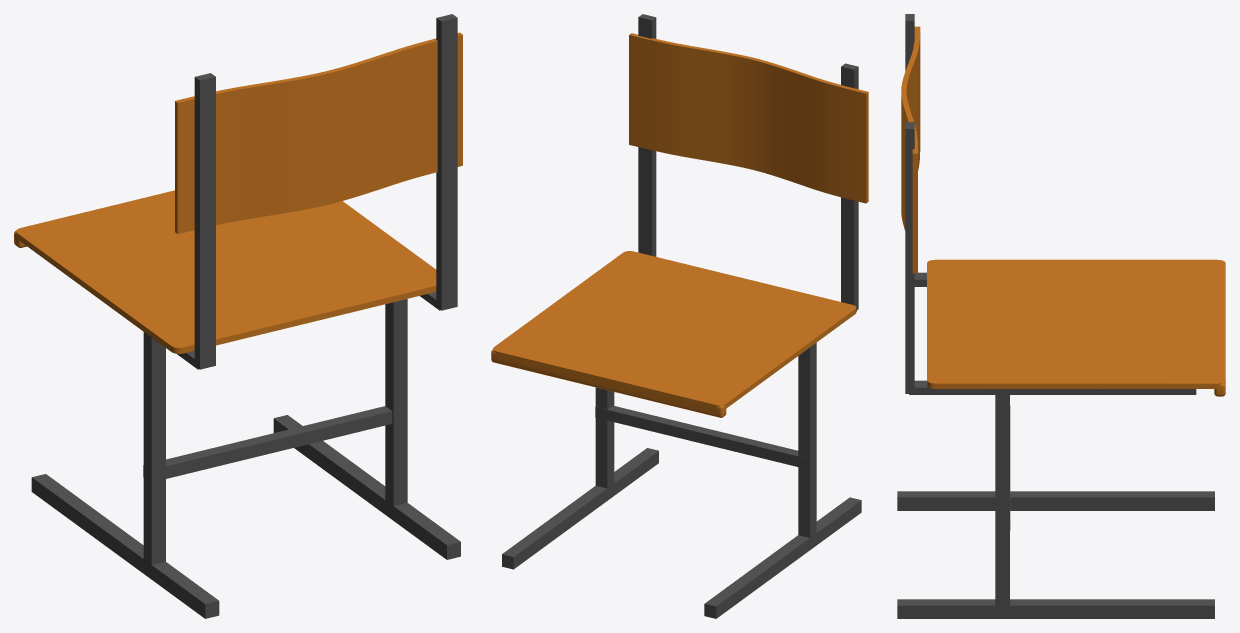
The picture shows the model from 3 angles, left to right: view 1: azimuth 30°, elevation 25°; view 2: azimuth 150°, elevation 25°; view 3: azimuth 270°, elevation 25°; orthographic projection. The views are drawn at different scales.
Visible parts, largest first — view 1: chair; view 2: chair; view 3: chair.
Part boxes in pixels (left/top/right/bottom): chair: left=14, top=14, right=462, bottom=618; chair: left=491, top=14, right=868, bottom=618; chair: left=897, top=14, right=1225, bottom=618.
Size of the model in its own units: 0.444 by 0.8 by 0.486.
